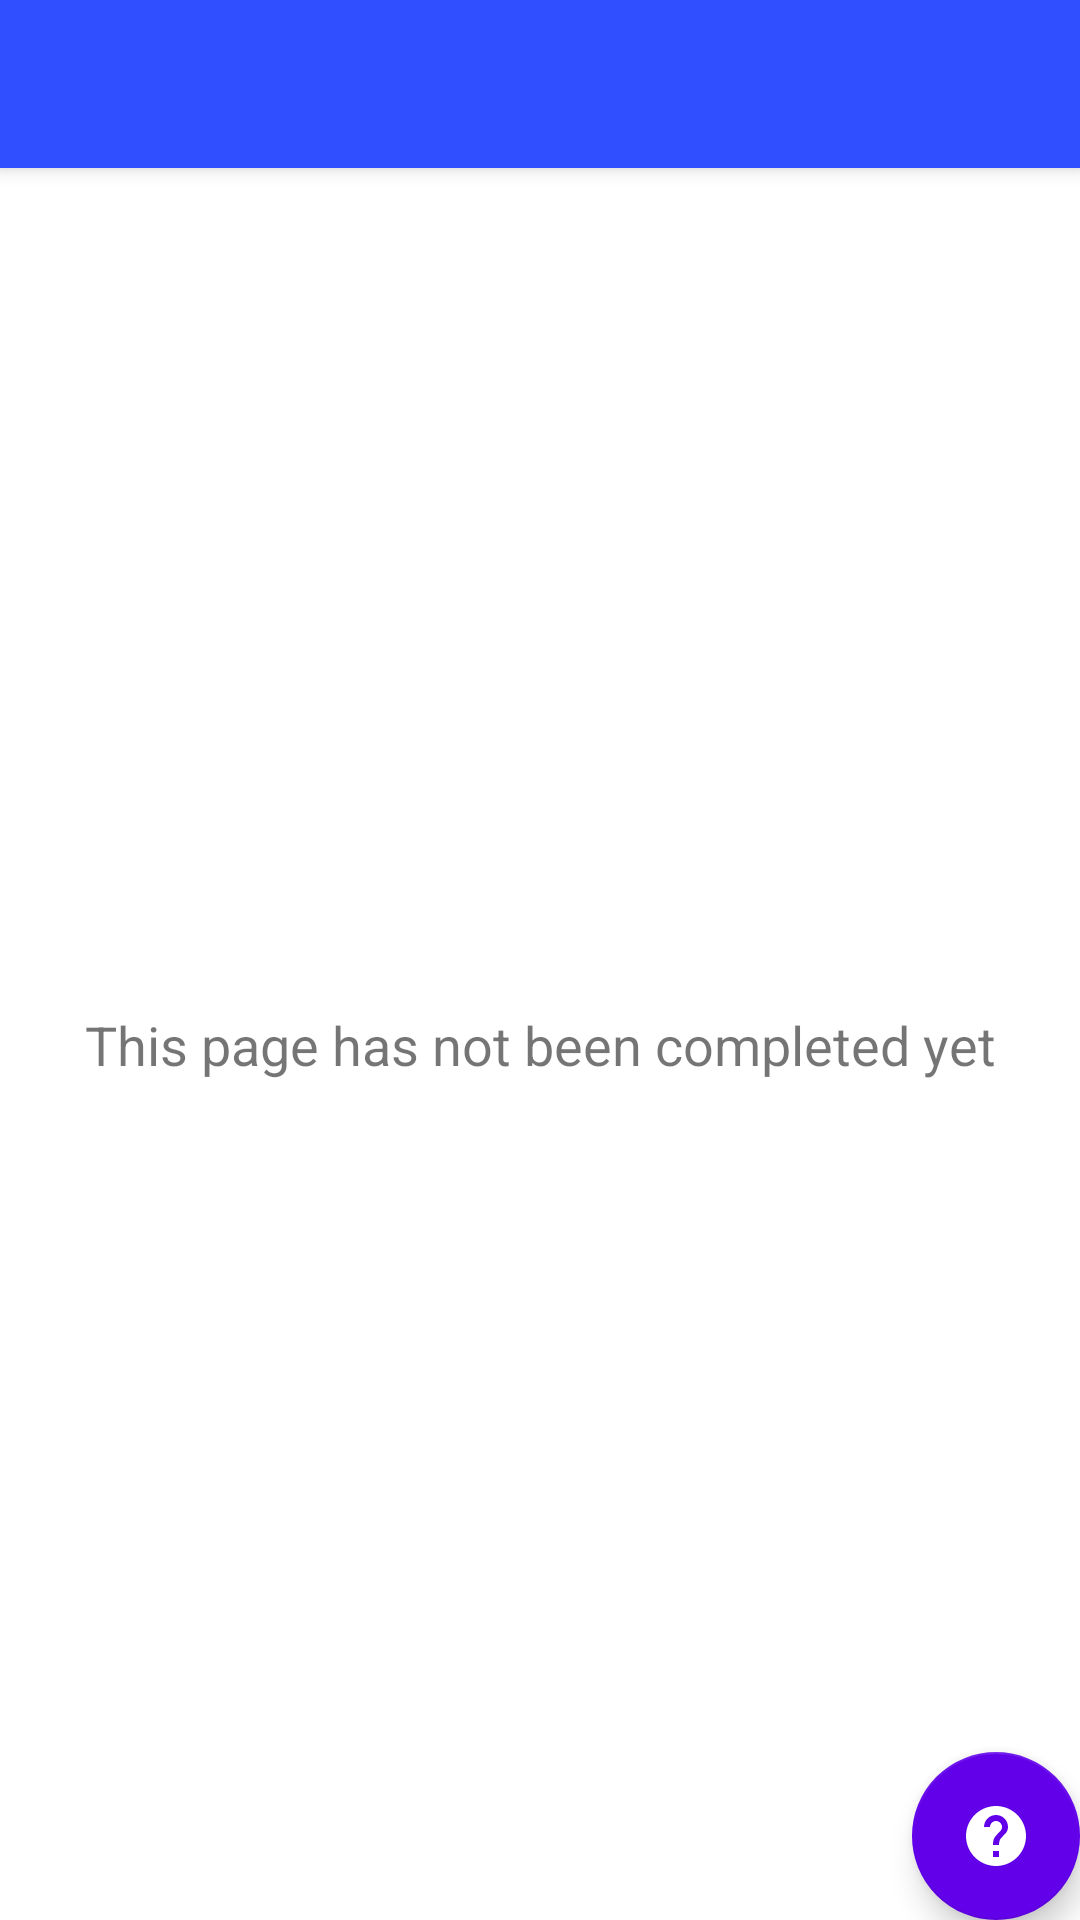

Screen size 1080px×1920px. Icon name, then its center in pixels as (x,y):
help: (996,1836)
